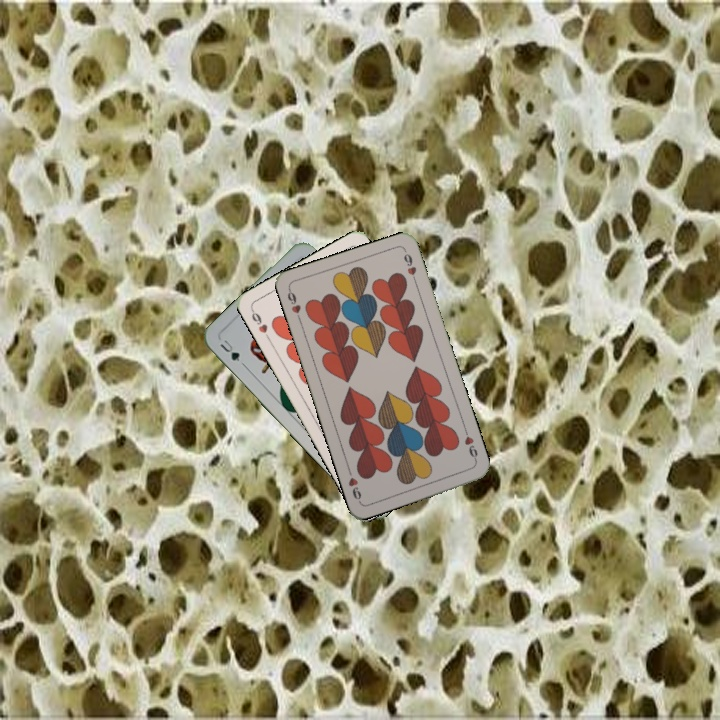GU: (216, 335, 243, 364)
H9: (247, 305, 272, 342), (283, 285, 304, 324), (460, 425, 480, 465)
